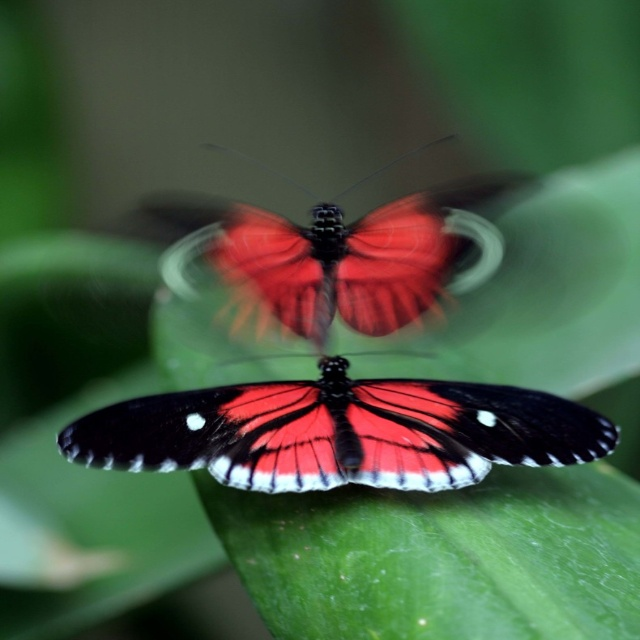Butterfly: (129, 136, 541, 348), (57, 351, 625, 492)
